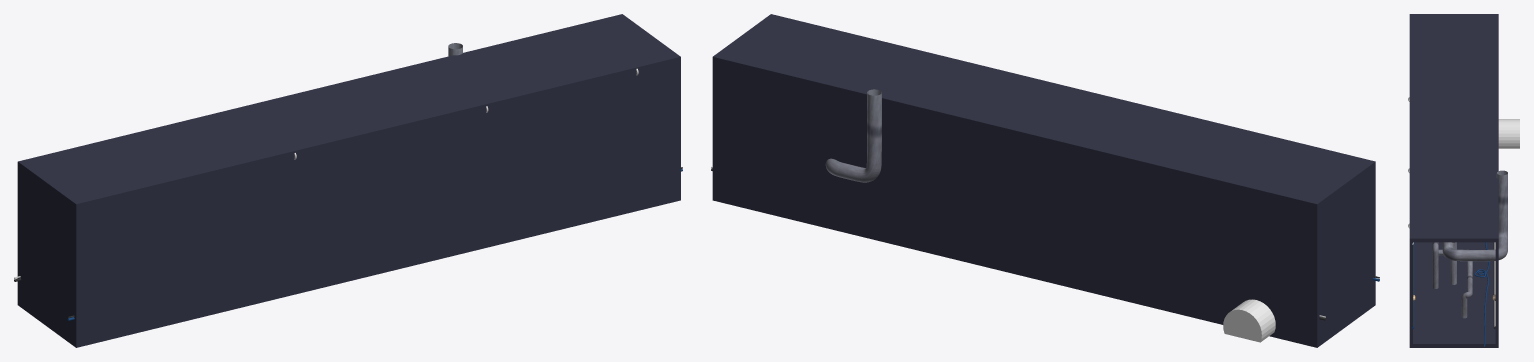
File: CHAUFFERIE 1.fbx
3 renders of one model, left to right at view 1: azimuth 30°, elevation 25°; view 2: azimuth 150°, elevation 25°; view 3: azimuth 270°, elevation 25°, orthographic. The views are drawn at different scales.
Parts seen in each view (by area): view 1: STRUCTURE; view 2: STRUCTURE, Tuyau épais milieu, Cylinder; view 3: STRUCTURE, Tuyau épais milieu, Petit tuyau devant-LOW, Cylinder, Fil sol, Tuyau-01, Fil droit gauche, Fil droit droite épais, Fil droit droite.
Part boxes in pixels (left/top/right/bottom): STRUCTURE: left=17, top=14, right=680, bottom=347; STRUCTURE: left=712, top=14, right=1375, bottom=347; Tuyau épais milieu: left=825, top=89, right=881, bottom=182; Cylinder: left=1223, top=299, right=1275, bottom=342; STRUCTURE: left=1409, top=14, right=1498, bottom=347; Tuyau épais milieu: left=1442, top=170, right=1507, bottom=261; Petit tuyau devant-LOW: left=1432, top=242, right=1472, bottom=318; Cylinder: left=1498, top=119, right=1519, bottom=148; Fil sol: left=1474, top=242, right=1489, bottom=346; Tuyau-01: left=1450, top=242, right=1456, bottom=284; Fil droit gauche: left=1412, top=242, right=1414, bottom=328; Fil droit droite épais: left=1493, top=242, right=1495, bottom=328; Fil droit droite: left=1494, top=242, right=1495, bottom=326.
Bounding box in the file's own units: 3184 × 746 × 656.
